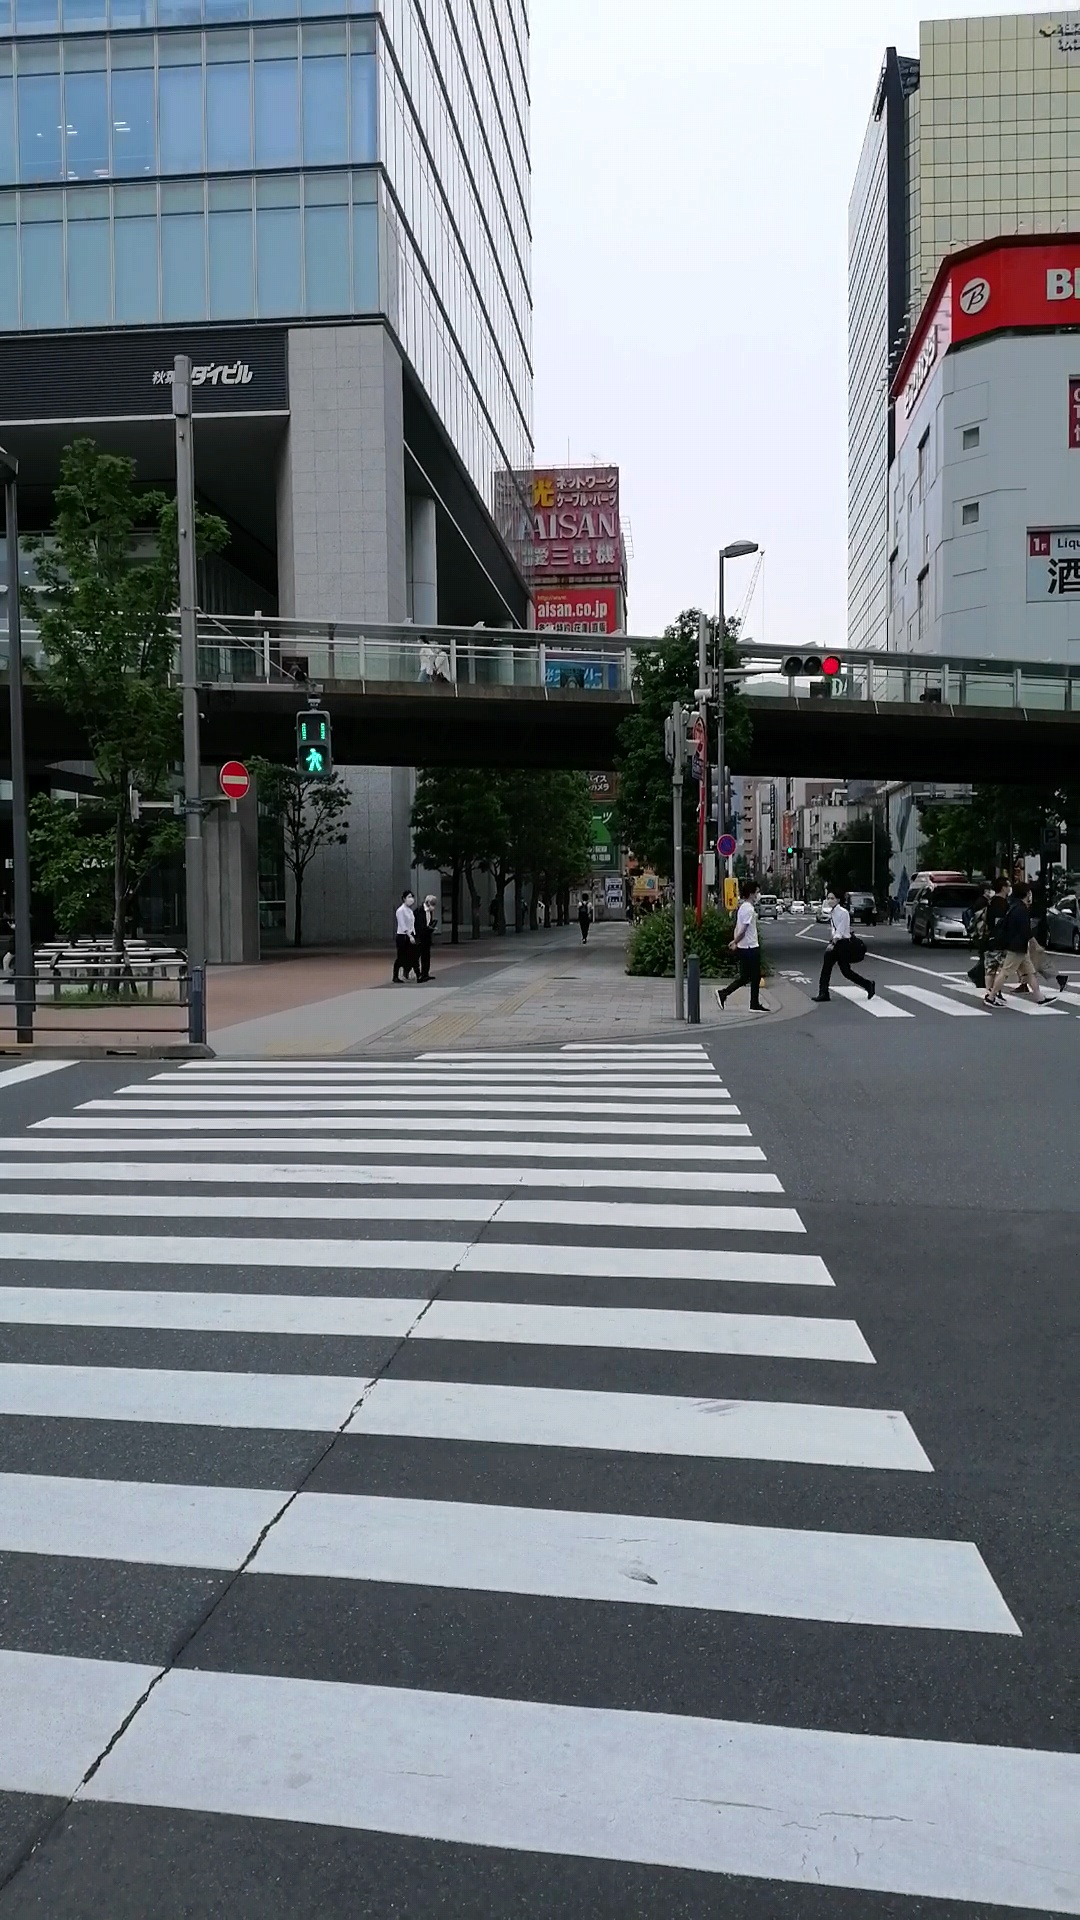green: (291, 709, 334, 778)
